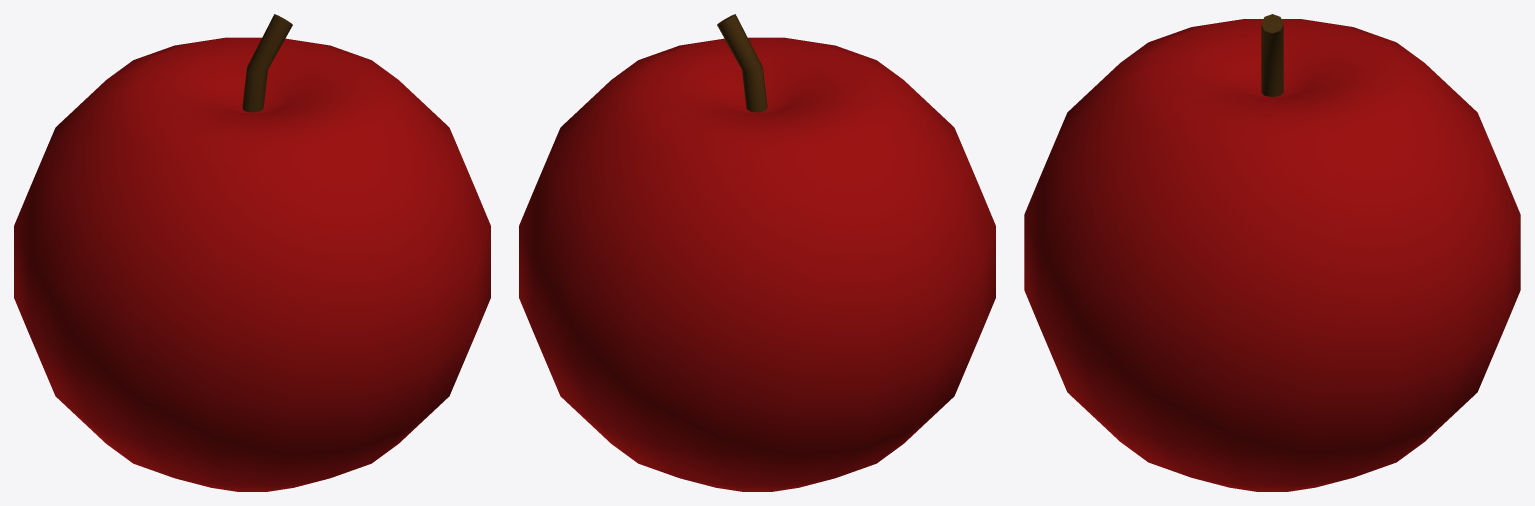
The model's file is pomme.FBX.
The picture shows the model from 3 angles, left to right: view 1: azimuth 30°, elevation 25°; view 2: azimuth 150°, elevation 25°; view 3: azimuth 270°, elevation 25°; orthographic projection. The views are drawn at different scales.
Visible parts, largest first — view 1: pomme, queuePomme; view 2: pomme, queuePomme; view 3: pomme, queuePomme.
Part boxes in pixels (x1,y1,x2,y2): pomme: (14,37,490,491); queuePomme: (242,14,292,112); pomme: (519,37,995,491); queuePomme: (717,14,767,112); pomme: (1024,19,1520,491); queuePomme: (1261,14,1283,96).
Bounding box in the file's own units: 8.54 × 9 × 8.67.
